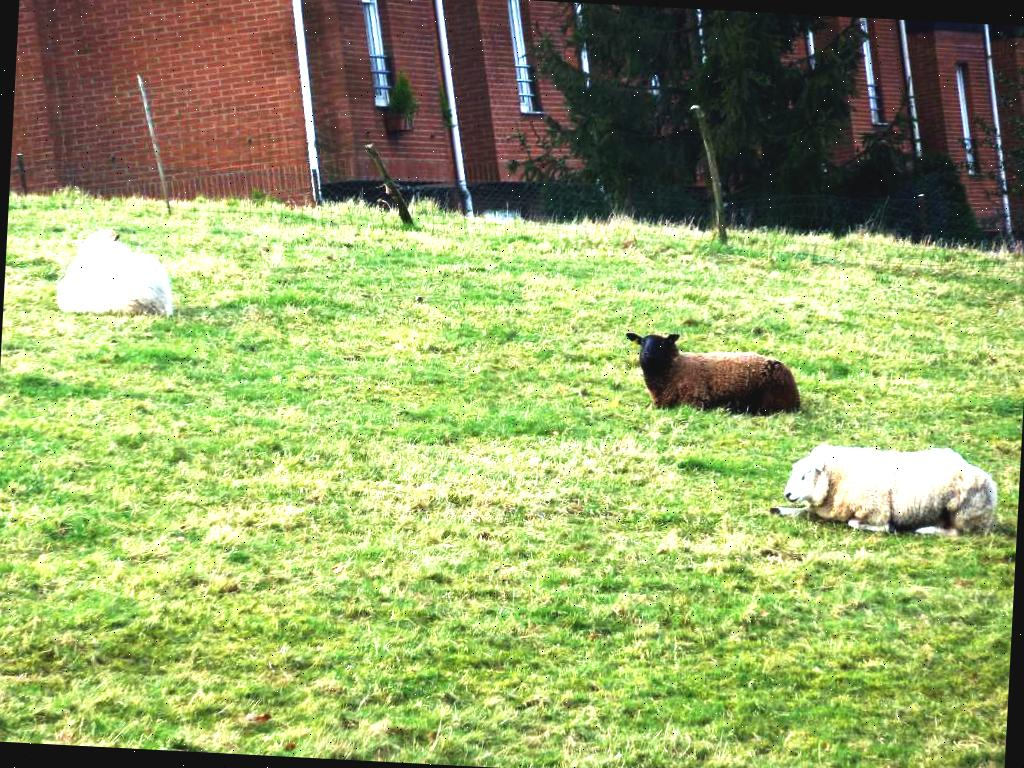Sheep: (772, 442, 1002, 540), (618, 332, 806, 416), (58, 228, 170, 316)
